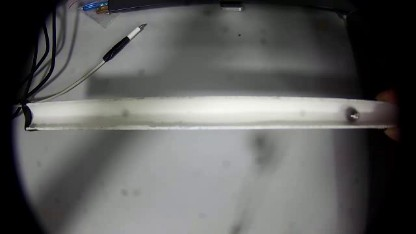gangzhu: (344, 106, 360, 124)
